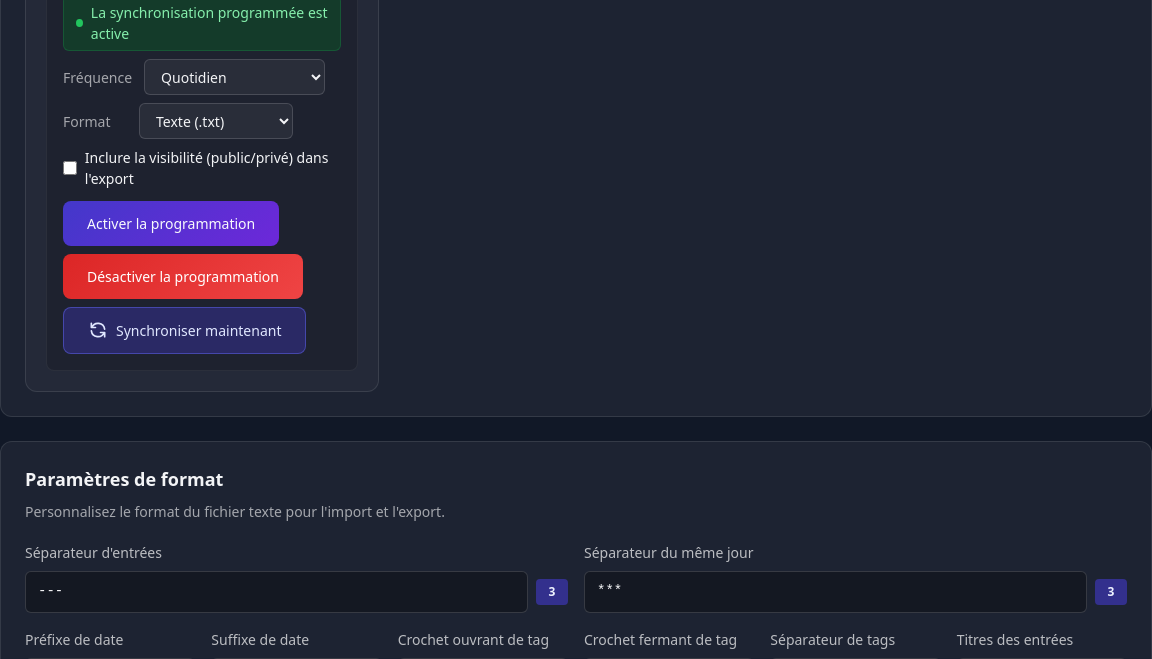
Test case: ImportExport cloud errors › shows the reason a refused sync now gives, in French
The width and height of the screenshot is (1152, 659).
(page scrolled)
Click the button "Synchroniser maintenant" at (185, 330), box [63,307,306,354]
(page scrolled)
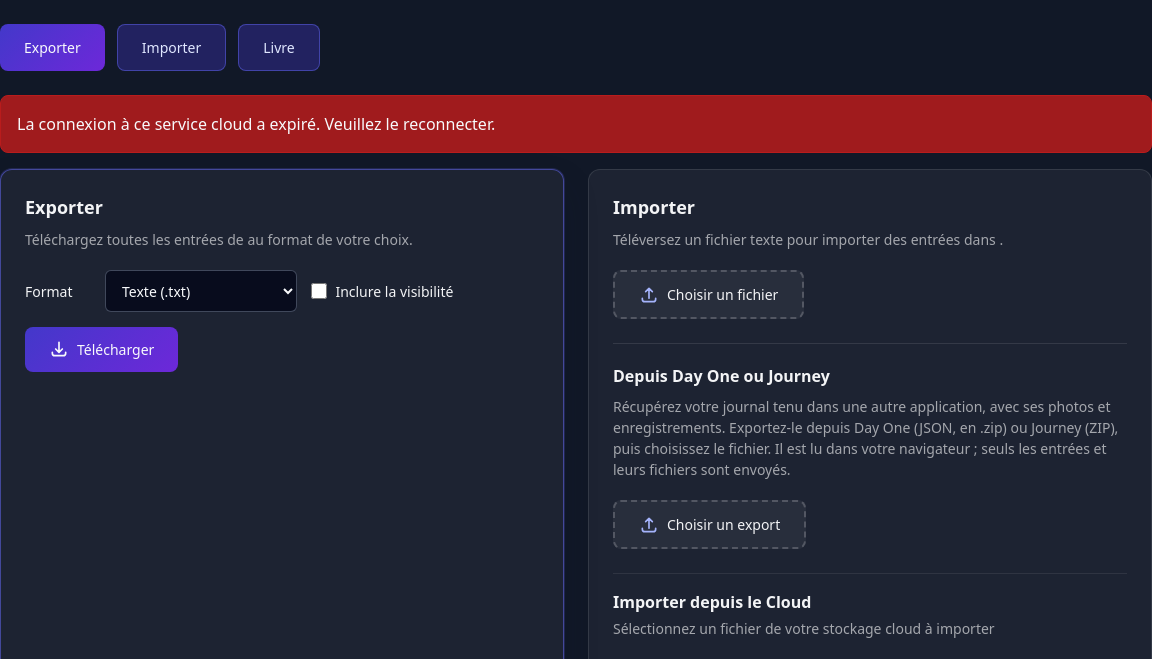
Now the text "La connexion à ce service cloud a expiré. Veuillez le reconnecter." is shown, box [0,95,1151,153]
